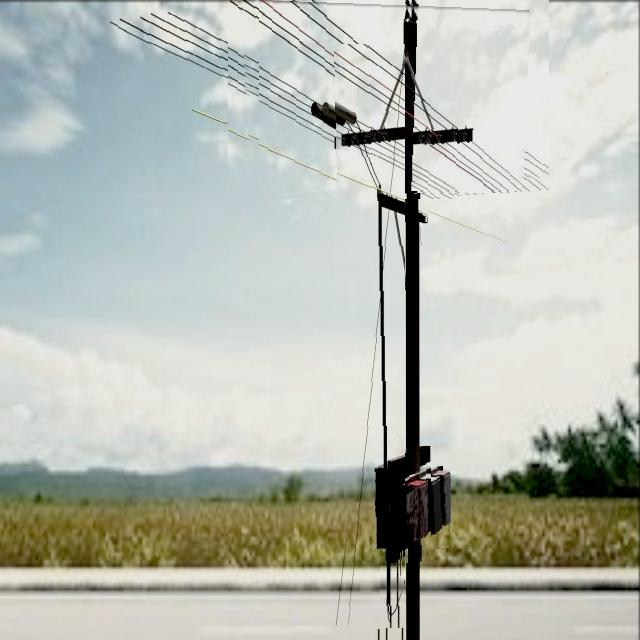crossarm: (367, 446, 431, 565), (374, 192, 428, 222)
pole: (405, 0, 419, 254)
transformer: (340, 121, 478, 149), (408, 466, 450, 550)
wire: (118, 14, 458, 194), (106, 18, 436, 199), (149, 11, 477, 191), (167, 8, 485, 184), (228, 0, 502, 193), (242, 0, 521, 179), (260, 0, 517, 191), (306, 0, 549, 176), (345, 44, 405, 629), (184, 110, 378, 193), (419, 205, 508, 245), (374, 206, 379, 423), (400, 551, 403, 634)
